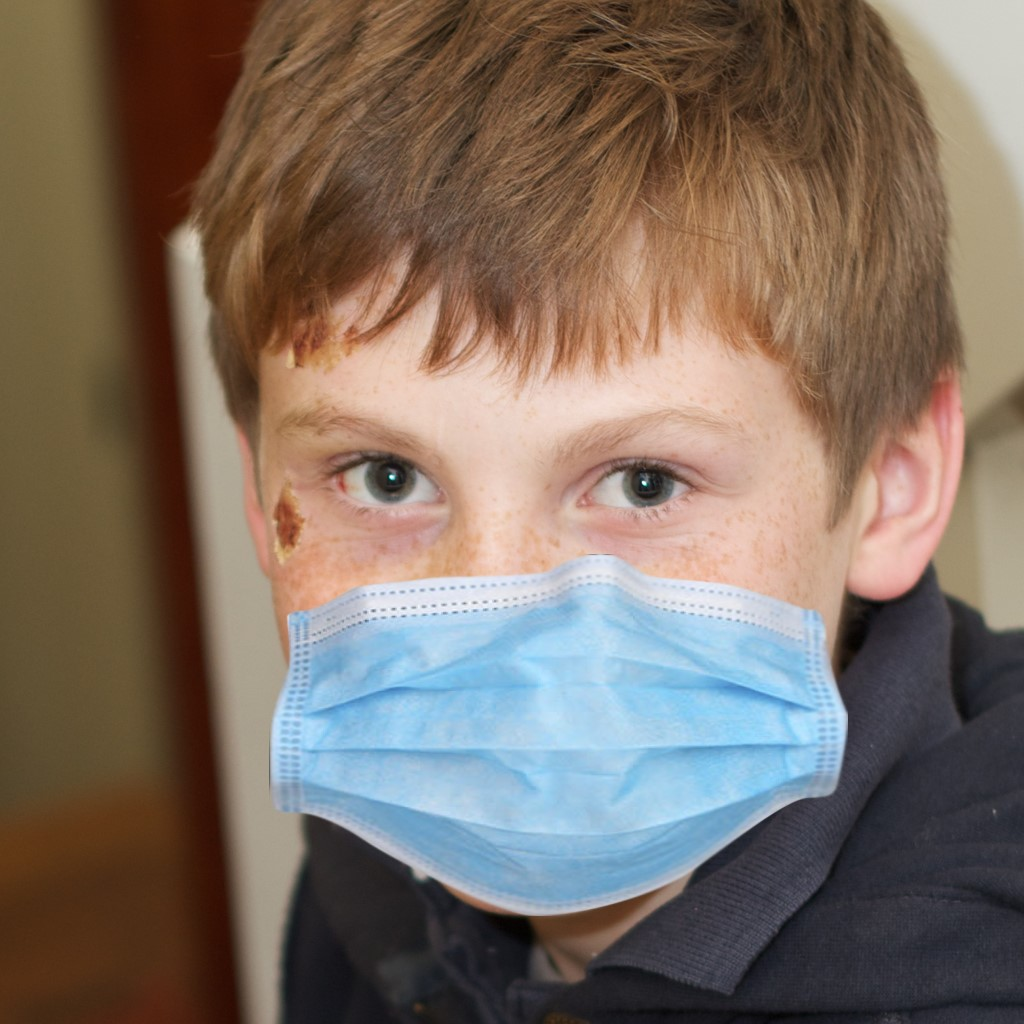con_mascara: (220, 44, 964, 888)
